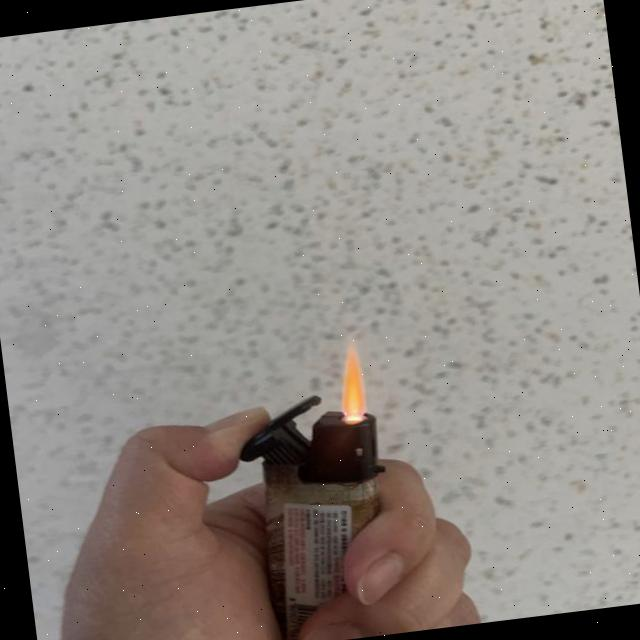fire: (335, 347, 371, 421)
